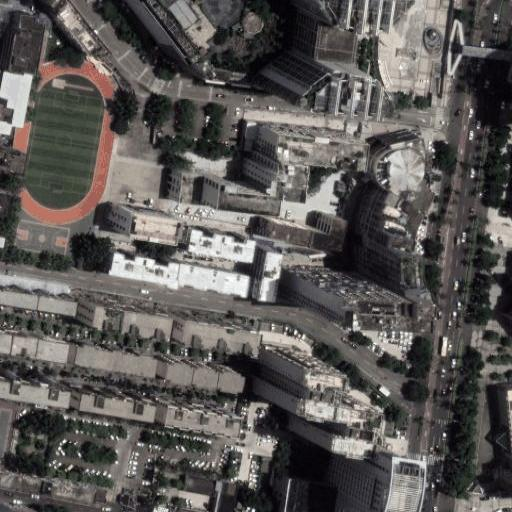building: (140, 0, 299, 87), (258, 347, 350, 437), (362, 0, 447, 96), (255, 50, 360, 98), (251, 122, 345, 159), (303, 293, 400, 326), (47, 0, 101, 57), (78, 294, 159, 331), (167, 310, 248, 347), (0, 269, 70, 311), (72, 337, 157, 370), (293, 2, 340, 58), (251, 210, 330, 243), (334, 453, 375, 512), (7, 13, 46, 75), (166, 260, 239, 293), (64, 383, 144, 413), (164, 354, 243, 384), (151, 399, 227, 430), (98, 248, 169, 281), (178, 225, 246, 259), (351, 251, 400, 298), (38, 475, 109, 507), (0, 322, 61, 356), (0, 365, 57, 401), (195, 171, 259, 203), (354, 187, 405, 225), (283, 479, 340, 512), (376, 147, 418, 189), (171, 145, 228, 175), (111, 203, 164, 234), (246, 149, 287, 187), (250, 245, 276, 298), (390, 137, 426, 174), (0, 467, 41, 492), (143, 499, 204, 512), (0, 395, 14, 451), (168, 168, 192, 200), (214, 482, 239, 512), (351, 234, 387, 253), (184, 478, 218, 497), (0, 145, 21, 172), (295, 0, 357, 9), (352, 222, 389, 237), (237, 120, 251, 150), (496, 432, 509, 451), (505, 308, 512, 323)
